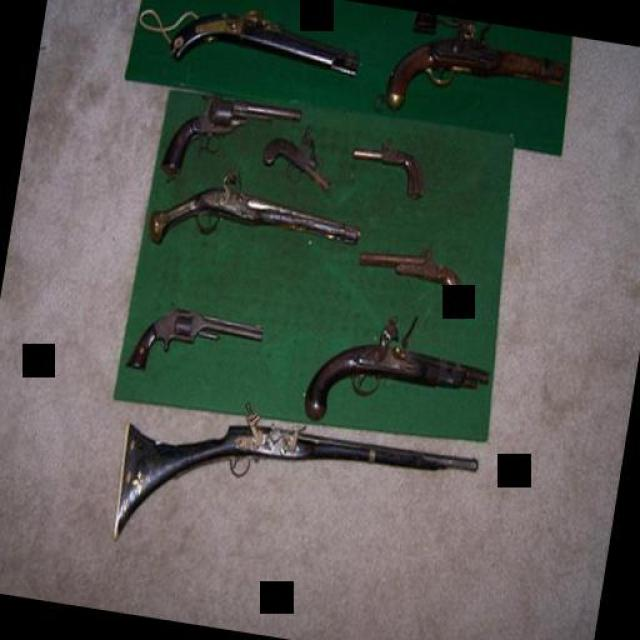gun: (297, 303, 503, 442), (148, 76, 302, 198), (121, 289, 262, 380), (348, 234, 478, 328), (342, 132, 428, 206), (258, 119, 334, 189)
